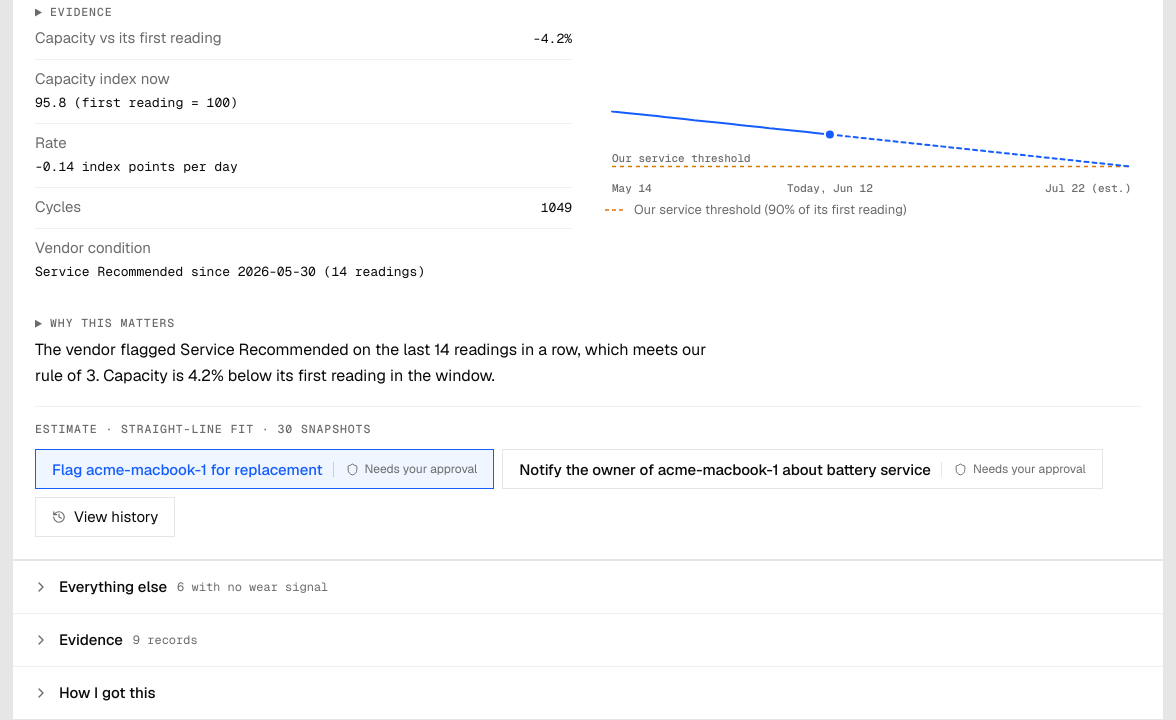
it: InsightList › puts what the answer left out under Everything else, from the scope line
(page scrolled)
Click the button "Everything else 6 with no wear signal" at (113, 587), box [13,562,1163,614]
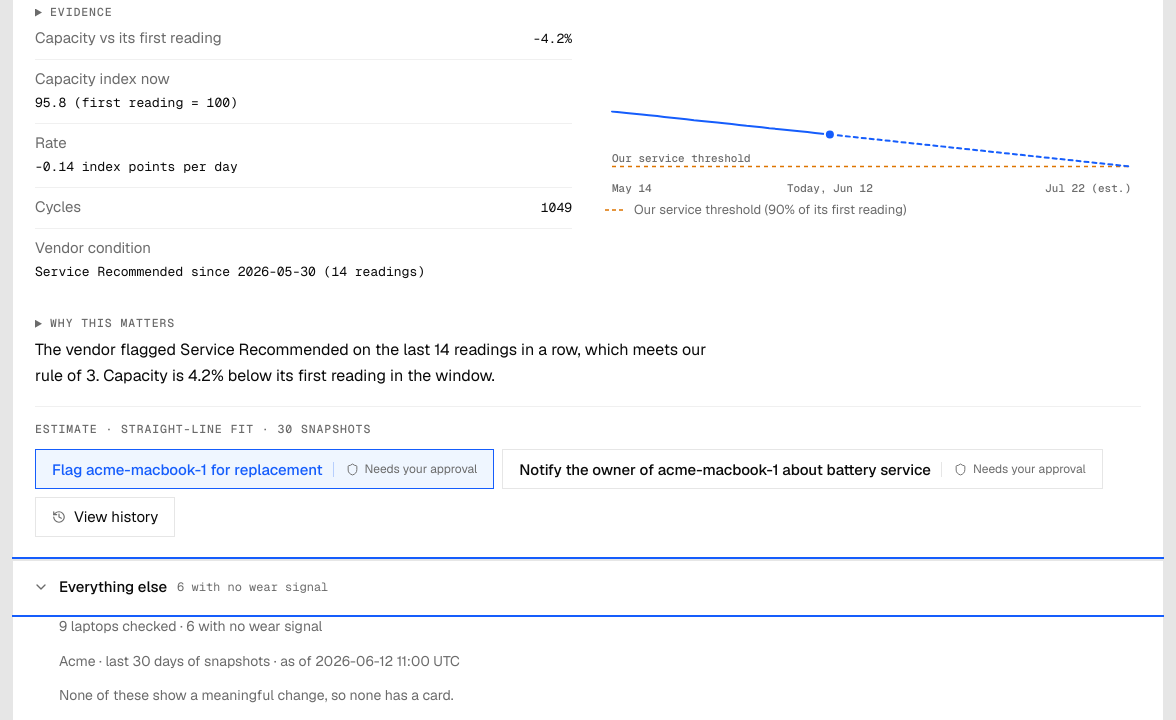
Now the text "9 laptops checked · 6 with no wear signal" is shown, box [59,618,322,636]
